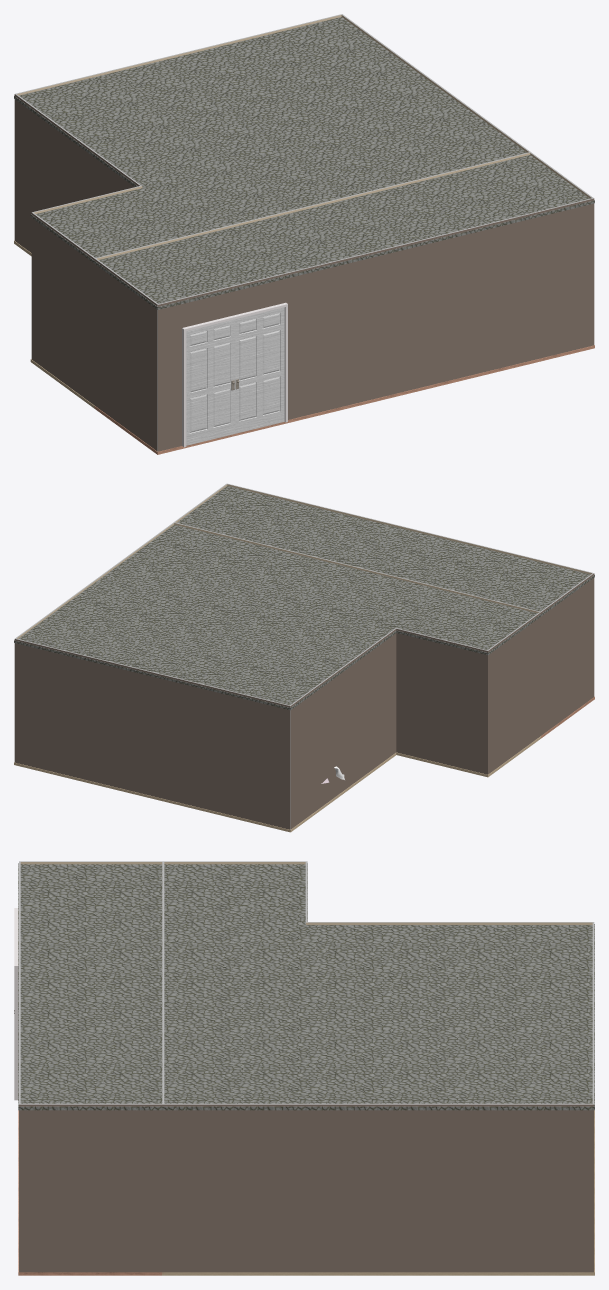
Rendered from ProcTHOR-Train-161.glb.
3 views of the same model, one above another, from view 1: azimuth 30°, elevation 25°; view 2: azimuth 150°, elevation 25°; view 3: azimuth 270°, elevation 25° (orthographic). The views are drawn at different scales.
Parts seen in each view (by area): view 1: Ceiling#room|2|c, WallInside#wall|exterior|0.00|8.01|8.01|8.01, Ceiling#room|3|c, WallInside#wall|exterior|8.01|4.00|8.01|6.00, WallInside#wall|exterior|8.01|6.00|8.01|8.01, WallInside#wall|exterior|6.00|0.00|6.00|4.00, Doorway_Door_2a, Doorway_Door_2b, Floor#room|3|f, Doorway_Double_2, WallInside#wall|3|0.00|6.00|8.01|6.00, WallInside#wall|2|0.00|0.00|6.00|0.00 (+1 smaller); view 2: Ceiling#room|2|c, WallInside#wall|exterior|0.00|0.00|6.00|0.00, Ceiling#room|3|c, WallInside#wall|exterior|6.00|0.00|6.00|4.00, WallInside#wall|exterior|6.00|4.00|8.01|4.00, WallInside#wall|exterior|8.01|4.00|8.01|6.00, WallInside#wall|exterior|8.01|6.00|8.01|8.01, Floor#room|2|f, WallInside#wall|2|0.00|6.00|8.01|6.00, WallInside#wall|3|0.00|8.01|8.01|8.01; view 3: Ceiling#room|2|c, WallInside#wall|exterior|0.00|0.00|0.00|6.00, Ceiling#room|3|c, WallInside#wall|exterior|0.00|6.00|0.00|8.01, Floor#room|2|f, Doorway_Double_2, WallInside#wall|2|6.00|0.00|6.00|4.00, Floor#room|3|f, WallInside#wall|2|8.01|4.00|8.01|6.00, WallInside#wall|3|8.01|6.00|8.01|8.01.
Part boxes in pixels (x1,y1,x2,y2): Ceiling#room|2|c: (14, 17, 529, 263); WallInside#wall|exterior|0.00|8.01|8.01|8.01: (158, 198, 594, 451); Ceiling#room|3|c: (94, 155, 594, 309); WallInside#wall|exterior|8.01|4.00|8.01|6.00: (31, 212, 94, 405); WallInside#wall|exterior|8.01|6.00|8.01|8.01: (94, 258, 157, 451); WallInside#wall|exterior|6.00|0.00|6.00|4.00: (14, 94, 141, 252); Doorway_Door_2a: (186, 319, 235, 445); Doorway_Door_2b: (235, 307, 284, 433); Floor#room|3|f: (94, 345, 594, 454); Doorway_Double_2: (182, 302, 287, 447); WallInside#wall|3|0.00|6.00|8.01|6.00: (95, 152, 530, 259); WallInside#wall|2|0.00|0.00|6.00|0.00: (15, 14, 342, 95); Ceiling#room|2|c: (14, 524, 540, 710); WallInside#wall|exterior|0.00|0.00|6.00|0.00: (14, 639, 290, 829); Ceiling#room|3|c: (177, 486, 594, 616); WallInside#wall|exterior|6.00|0.00|6.00|4.00: (290, 628, 396, 829); WallInside#wall|exterior|6.00|4.00|8.01|4.00: (396, 628, 487, 774); WallInside#wall|exterior|8.01|4.00|8.01|6.00: (488, 612, 541, 774); WallInside#wall|exterior|8.01|6.00|8.01|8.01: (541, 573, 594, 735); Floor#room|2|f: (14, 736, 540, 832); WallInside#wall|2|0.00|6.00|8.01|6.00: (174, 522, 540, 613); WallInside#wall|3|0.00|8.01|8.01|8.01: (227, 484, 592, 574); Ceiling#room|2|c: (162, 863, 594, 1110); WallInside#wall|exterior|0.00|0.00|0.00|6.00: (162, 1104, 594, 1272); Ceiling#room|3|c: (18, 863, 164, 1110); WallInside#wall|exterior|0.00|6.00|0.00|8.01: (19, 1104, 163, 1272); Floor#room|2|f: (162, 1110, 594, 1275); Doorway_Double_2: (14, 908, 18, 1100); WallInside#wall|2|6.00|0.00|6.00|4.00: (306, 922, 593, 924); Floor#room|3|f: (18, 1110, 163, 1275); WallInside#wall|2|8.01|4.00|8.01|6.00: (163, 861, 306, 864); WallInside#wall|3|8.01|6.00|8.01|8.01: (19, 861, 162, 864).
Size of what is drawn, in the model's own units: 8.05 by 2.64 by 8.11.
Materials: 146 (56 with a texture image).
